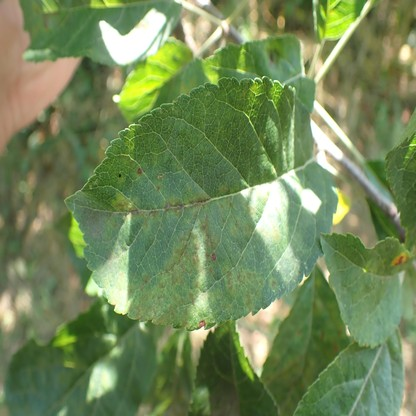rust: (391, 251, 407, 267)
scab: (69, 144, 279, 327), (267, 279, 341, 403), (265, 43, 285, 69)
